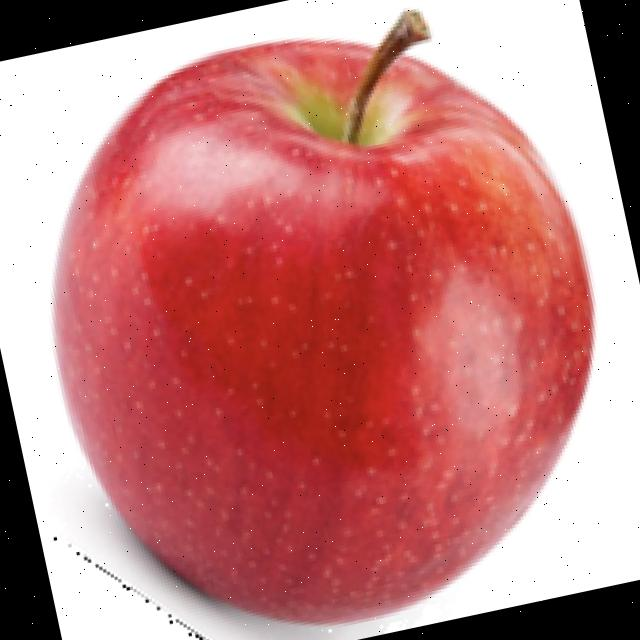apple: (47, 3, 600, 640)
